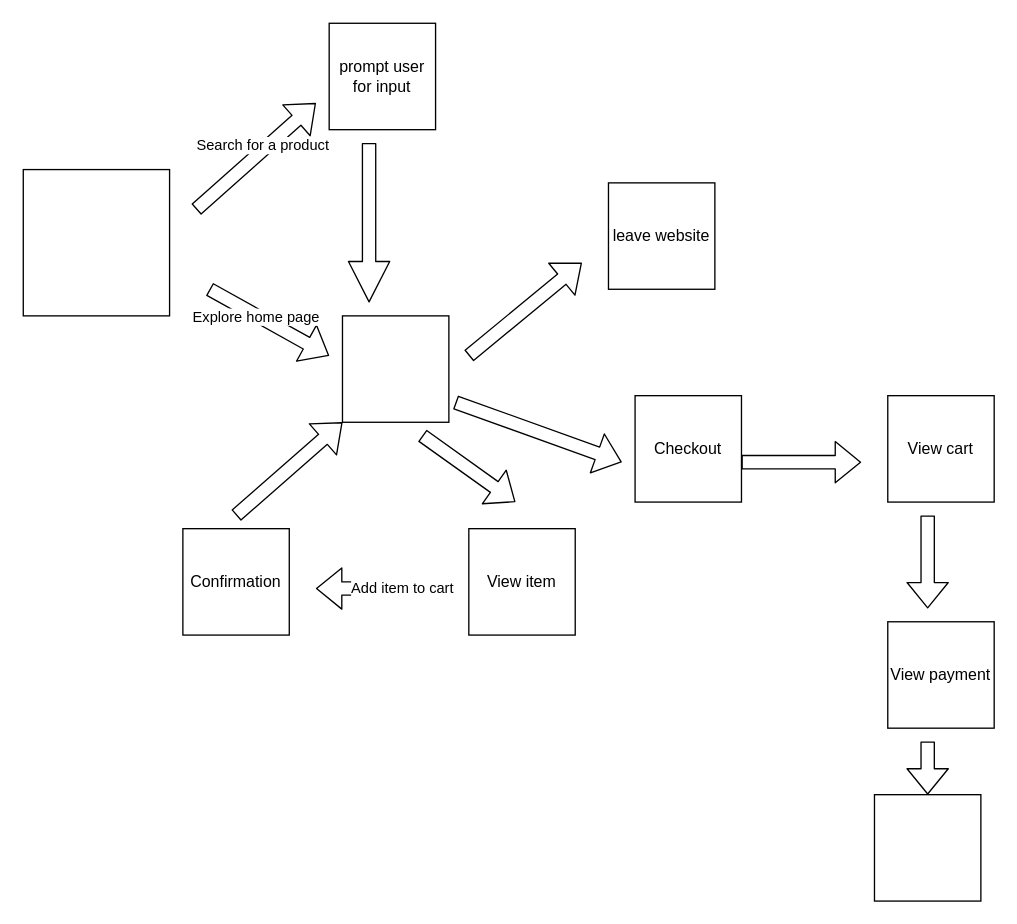
The diagram is 1017 pixels wide and 924 high, and some of its shapes have lost their labels. Here are the shapes that lost their labels. From the top down, the centre of each, then its label:
At [96,242]: "Web Home page".
At [395,368]: "Show products".
At [927,847]: "Order confirmation".
